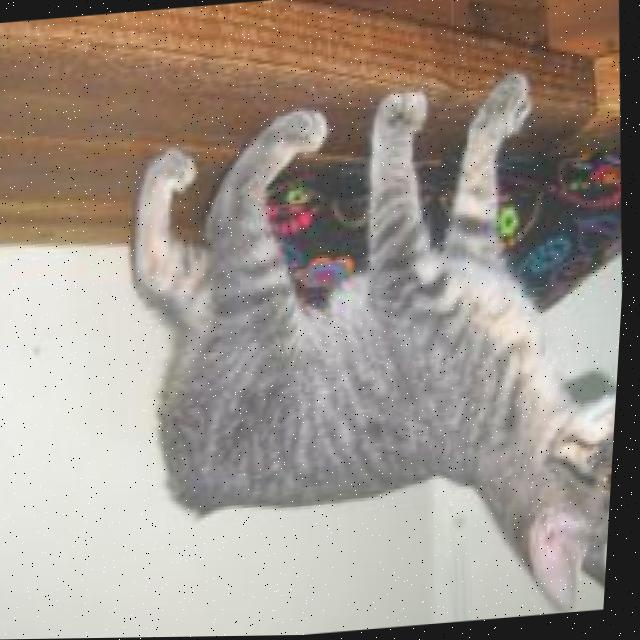American Bobtail: (104, 63, 637, 638)
